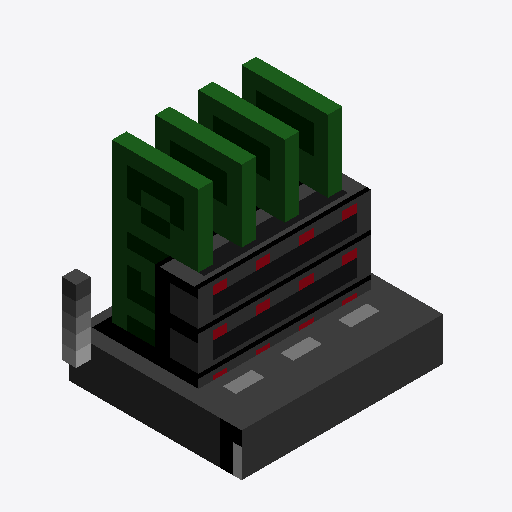
A Minecraft block model of 8 cuboids, rendered isometrically (azimuth 45°, elevation 35.3°) with the resource pack's own textures.
Parts seen in each view (by area): disk (×4), part_bottom, part, antenna.
Part boxes in pixels (x1,y1,x2,y2): disk (×4): (112,57,341,346); part_bottom: (69,273,442,479); part: (155,173,370,388); antenna: (62,269,90,367).
Size of the model in its own units: 16 by 14 by 12.